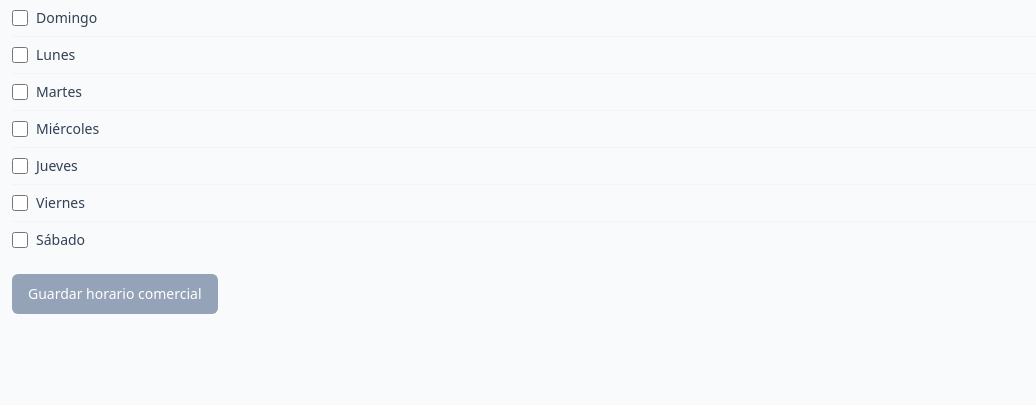
Test: BusinessHoursForm › blocks a save where opening is not before closing (client mirror of the server rule)
Click the checkbox labelled "Martes": [20, 92] box [12, 84, 28, 100]
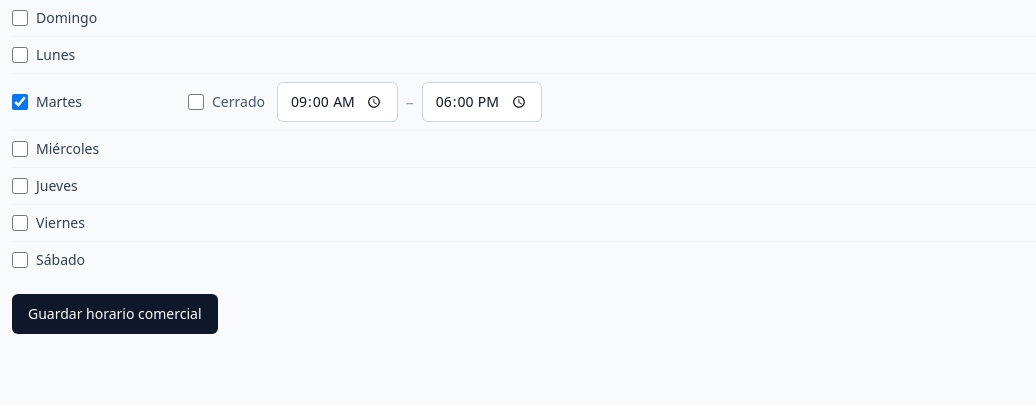
Replace the text in the time field named "hora de apertura del martes" with "19:00": [337, 102] box [277, 82, 398, 122]
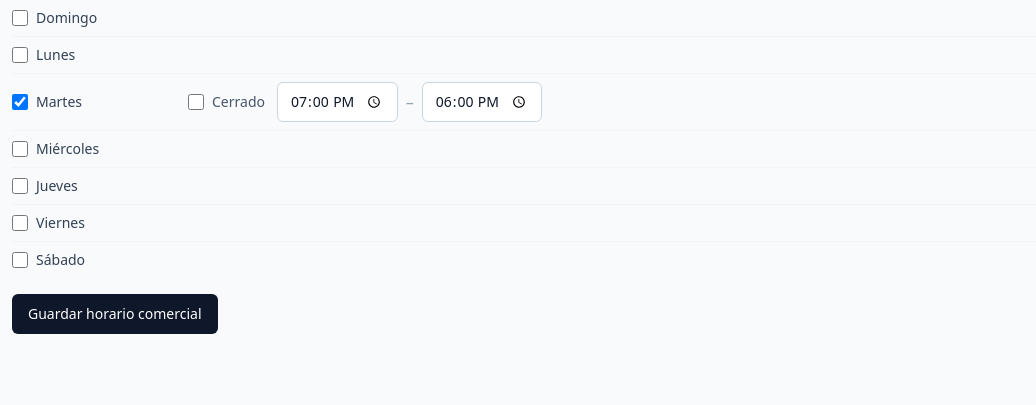
Replace the text in the time field named "hora de cierre del martes" with "08:00": [482, 102] box [422, 82, 542, 122]
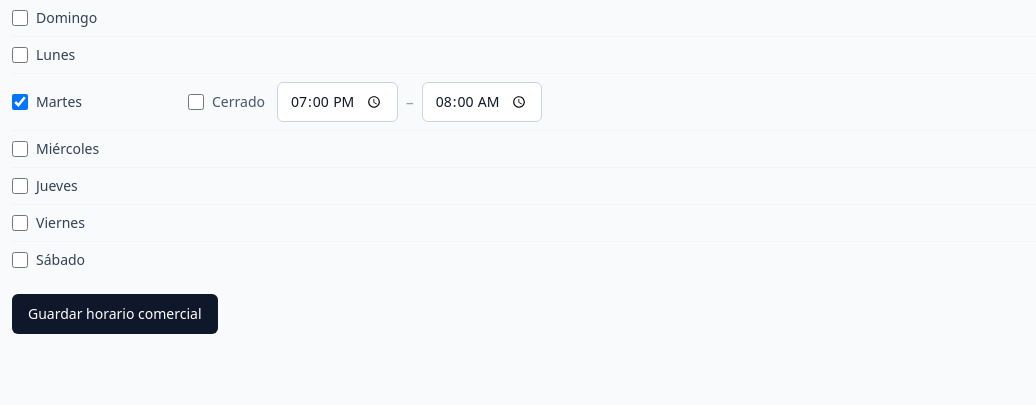
Click the button "Guardar horario comercial": [115, 314] box [12, 294, 218, 334]
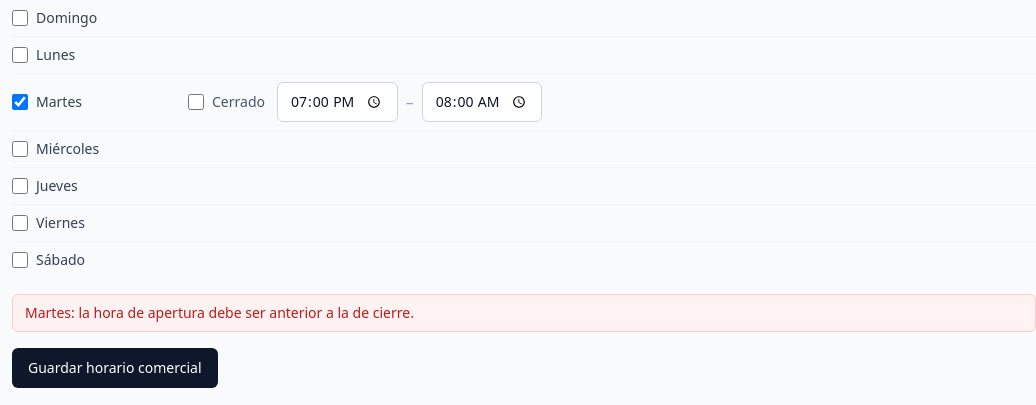
Expected: the text "hora de apertura debe ser anterior a la de cierre" is shown, [25, 303, 414, 322]
